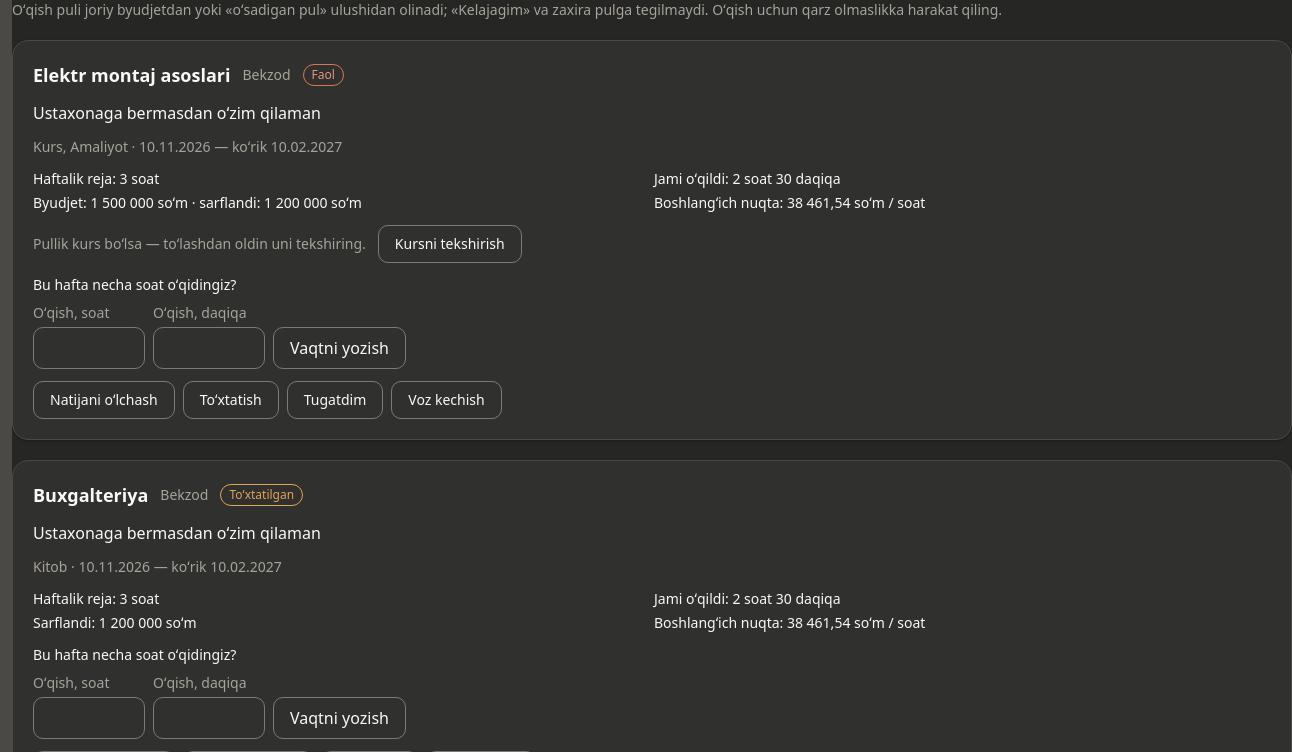
it: LearningScreen › boshlangʻich nuqtasiz natija: faqat hozirgi qiymat va betaraf izoh — «oʻsish yoʻq» deyilmaydi
(page scrolled)
Click the button "Natijani oʻlchash" below "Elektr montaj asoslari" at (104, 400), box [33, 381, 175, 419]
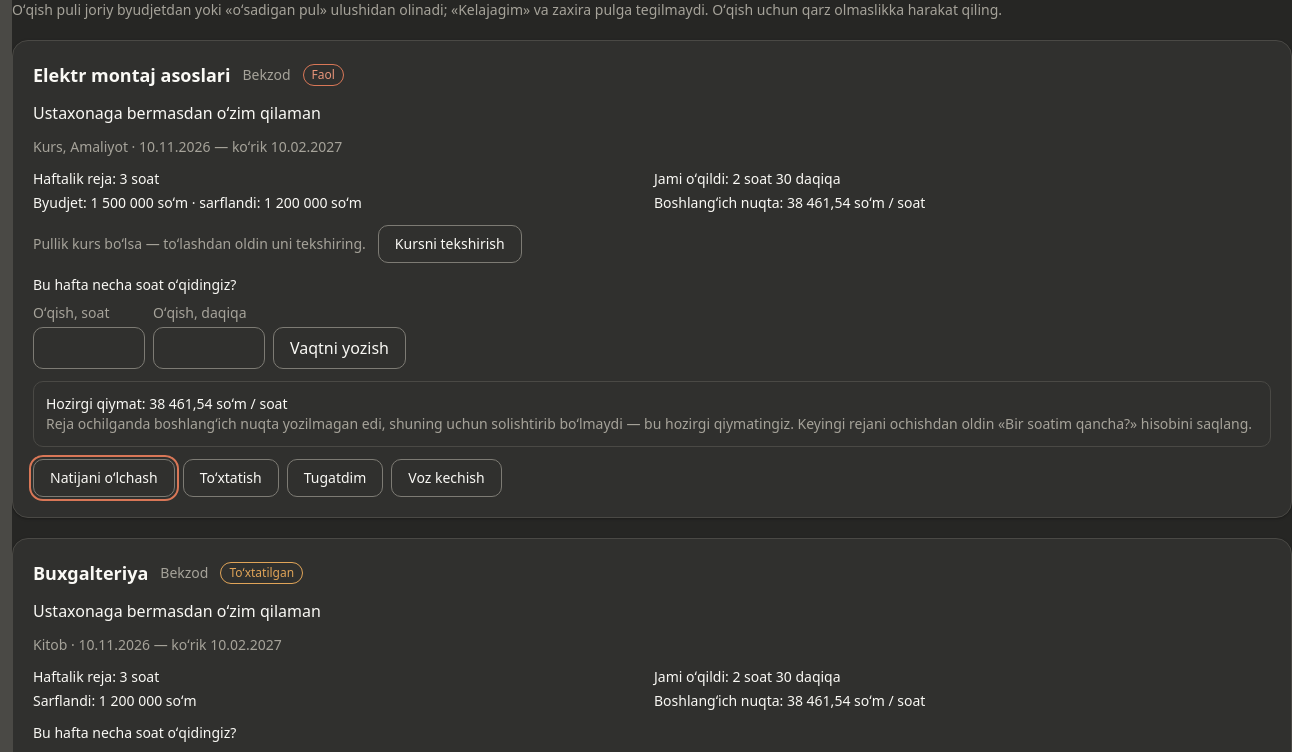
Expected: the message with test id "plan-result" does not show "ayb emas", [33, 381, 1271, 447]
Expected: the message with test id "plan-result" shows "Hozirgi qiymat: 38 461,54 soʻm / soat", [46, 394, 288, 413]
Expected: the message with test id "plan-result" shows "boshlangʻich nuqta yozilmagan edi", [46, 414, 1252, 433]
